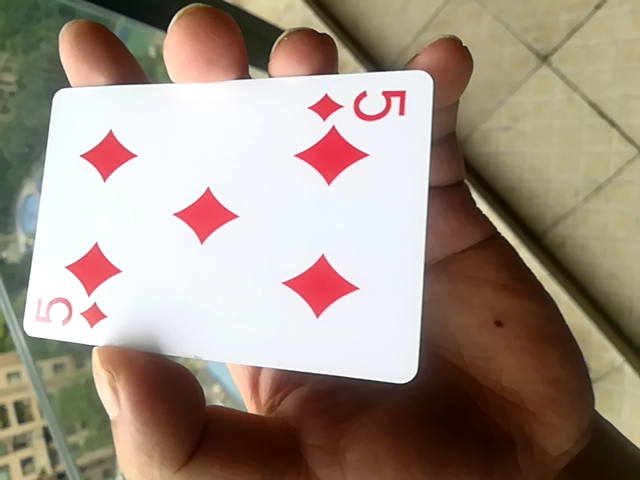fk 5: (16, 67, 431, 386)
